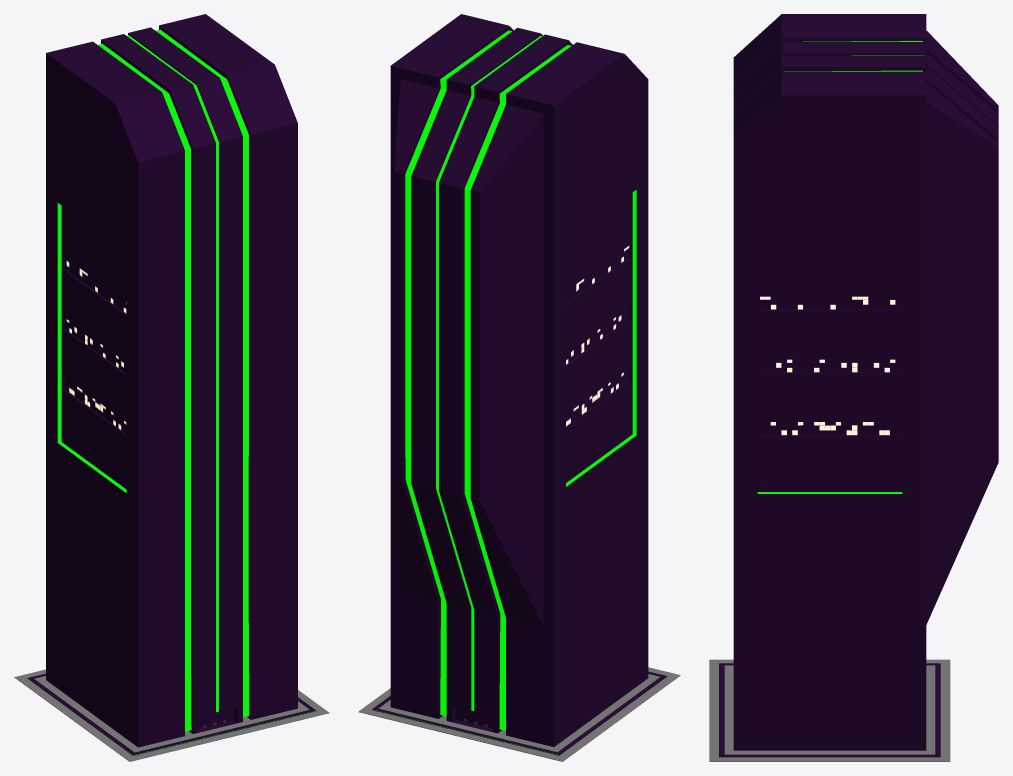
The model's file is Bina 4.fbx.
3 views of the same model, side by side, from view 1: azimuth 30°, elevation 25°; view 2: azimuth 150°, elevation 25°; view 3: azimuth 270°, elevation 25° (orthographic). The views are drawn at different scales.
Visible parts, largest first — view 1: Ars_1, ArsStand_1; view 2: Ars_1, ArsStand_1; view 3: Ars_1, ArsStand_1.
Part boxes in pixels (x1=…): Ars_1: x1=46, y1=14, x2=297, y2=747; ArsStand_1: x1=14, y1=669, x2=329, y2=761; Ars_1: x1=390, y1=14, x2=648, y2=746; ArsStand_1: x1=358, y1=667, x2=680, y2=761; Ars_1: x1=733, y1=14, x2=998, y2=750; ArsStand_1: x1=709, y1=659, x2=950, y2=761.
Bounding box in the file's own units: 64.23 × 193 × 77.08.
3 materials, 3 textured.
